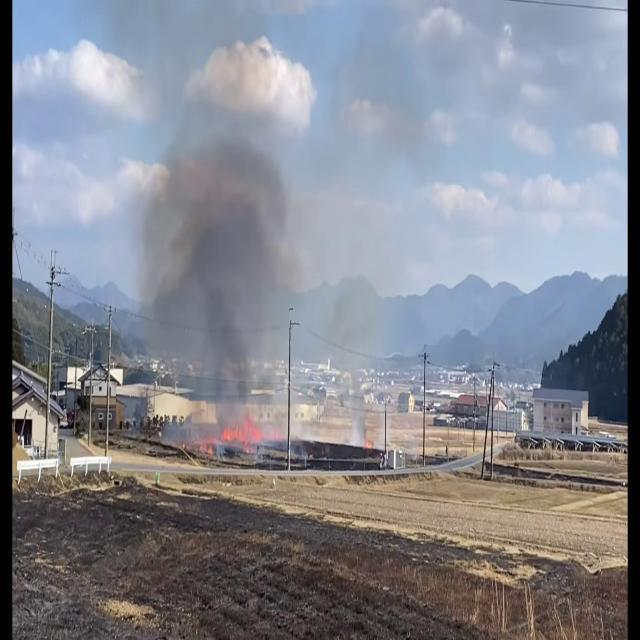Smoke: (129, 94, 294, 442), (292, 96, 415, 473)
